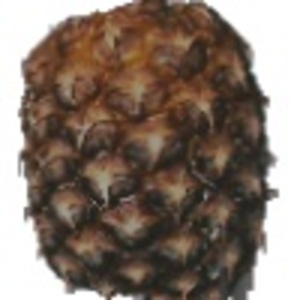abacaxi: (8, 3, 285, 298)
